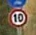limite 10: (8, 8, 28, 27)
